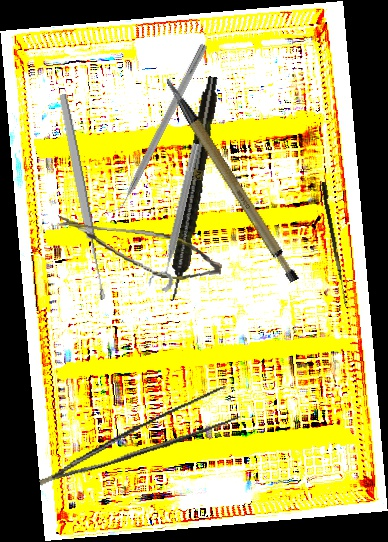Chopper: (102, 37, 208, 223)
Fixation Ring: (146, 140, 205, 293)
Handpiece: (163, 74, 223, 304)
Hook Surgical: (318, 181, 353, 308)
Micro Scissor: (52, 215, 226, 284)
Scalpel Handle: (163, 61, 303, 297)
Surgical Spoon: (56, 93, 109, 301)
Tissue Forceps: (28, 383, 244, 487)
